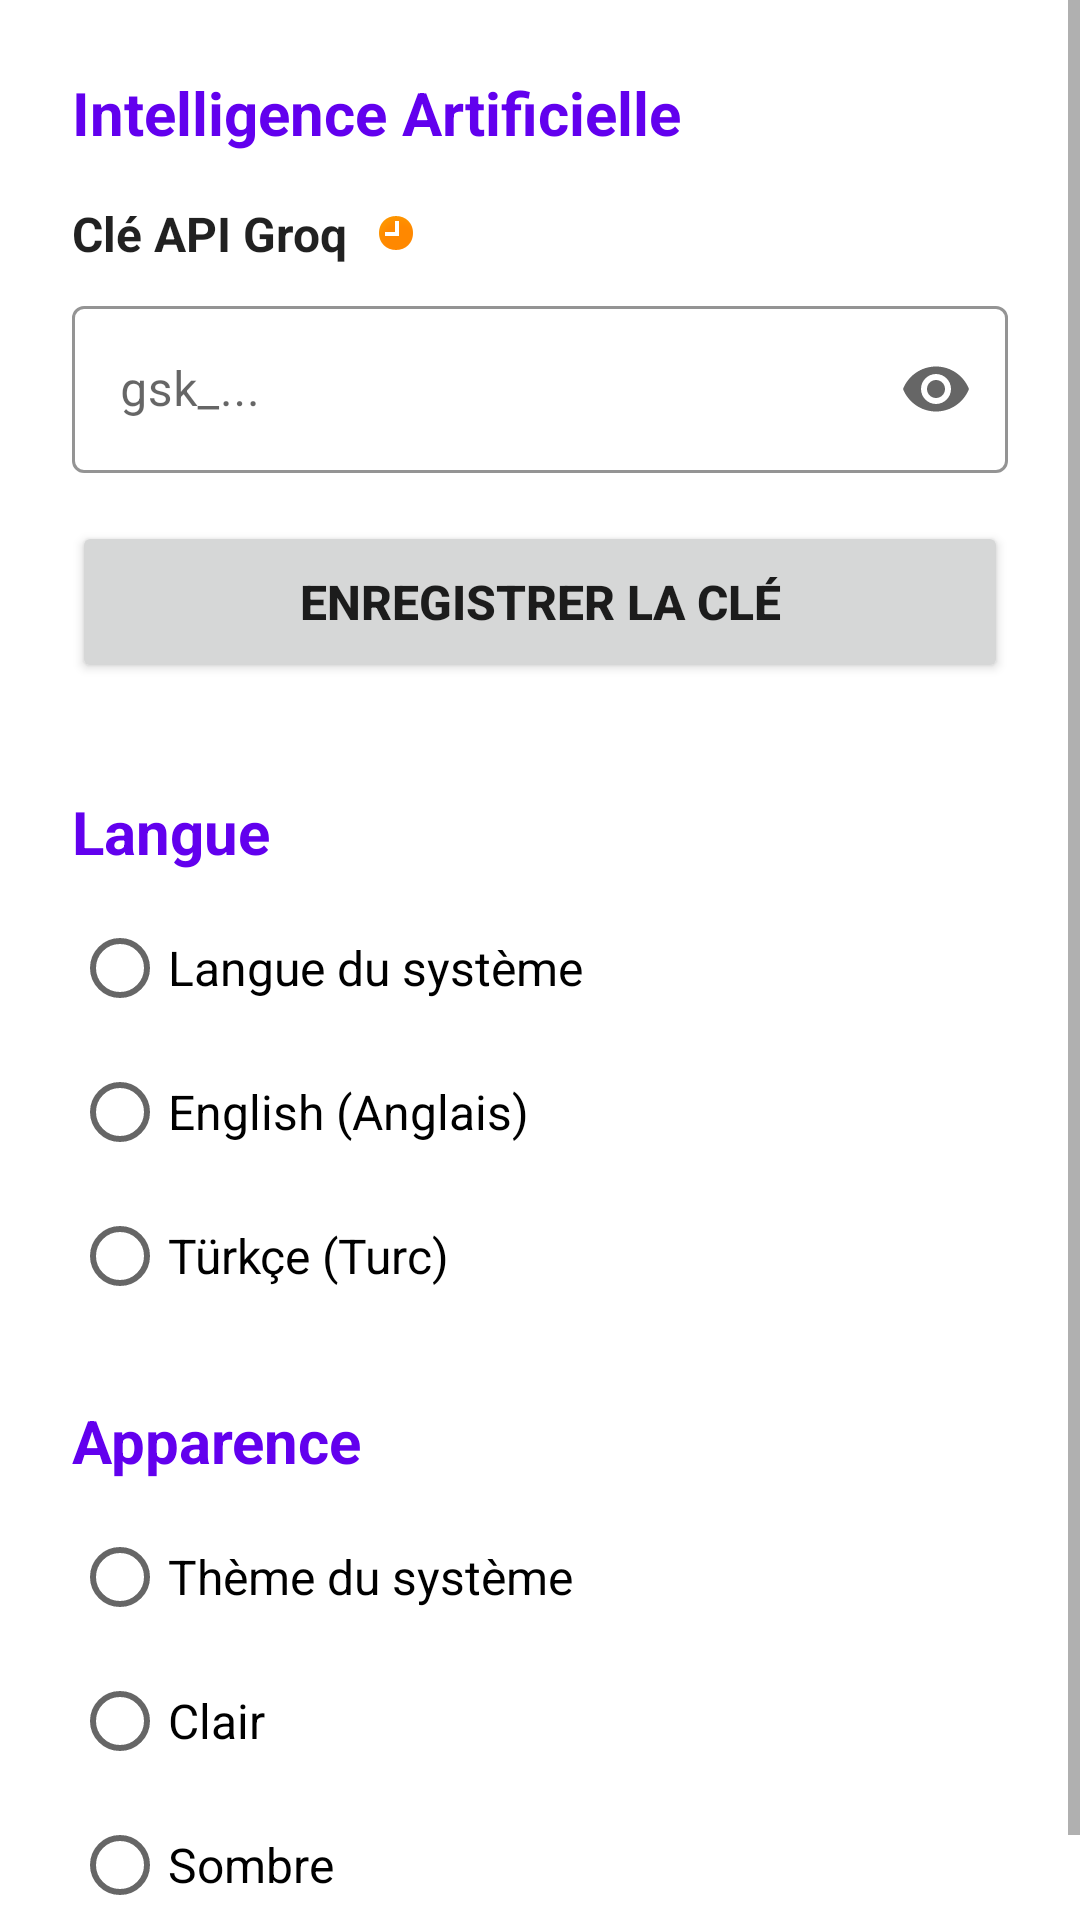

Screen size 1080 x 1920. Icon name, then its box in pixels as detection(x1, y1, x2, y2):
presence away: detection(379, 216, 413, 250)
